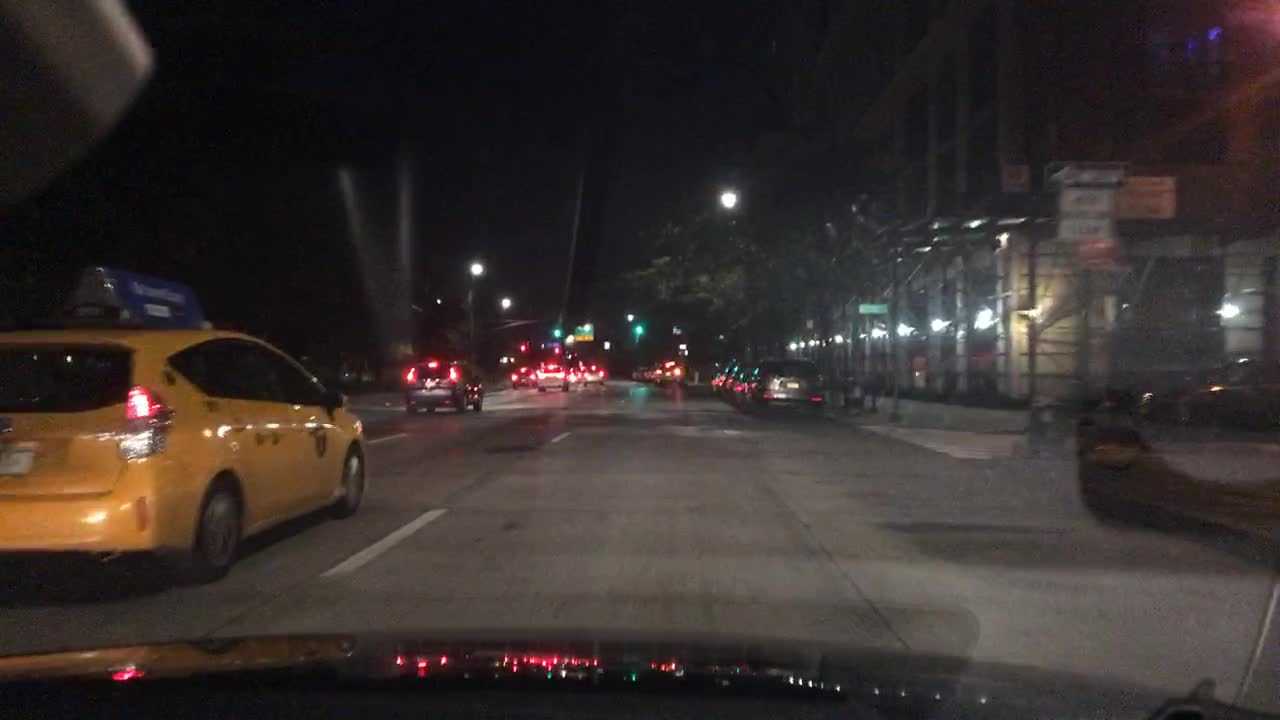car: (0, 265, 367, 582), (1138, 357, 1279, 425), (747, 358, 826, 420), (405, 357, 483, 412), (538, 360, 570, 393), (510, 365, 538, 389), (722, 365, 740, 396), (583, 363, 605, 387), (733, 370, 746, 404), (661, 362, 683, 382), (711, 366, 724, 394), (631, 365, 648, 382), (566, 366, 580, 383), (648, 365, 659, 383)
traffic light: (635, 321, 642, 337), (553, 323, 560, 337), (520, 342, 526, 352), (554, 345, 560, 355)
traffic sign: (1117, 177, 1177, 221), (1044, 161, 1132, 189), (1058, 189, 1116, 214), (1059, 216, 1114, 239), (1079, 239, 1118, 260), (856, 302, 889, 314), (574, 323, 594, 342)
